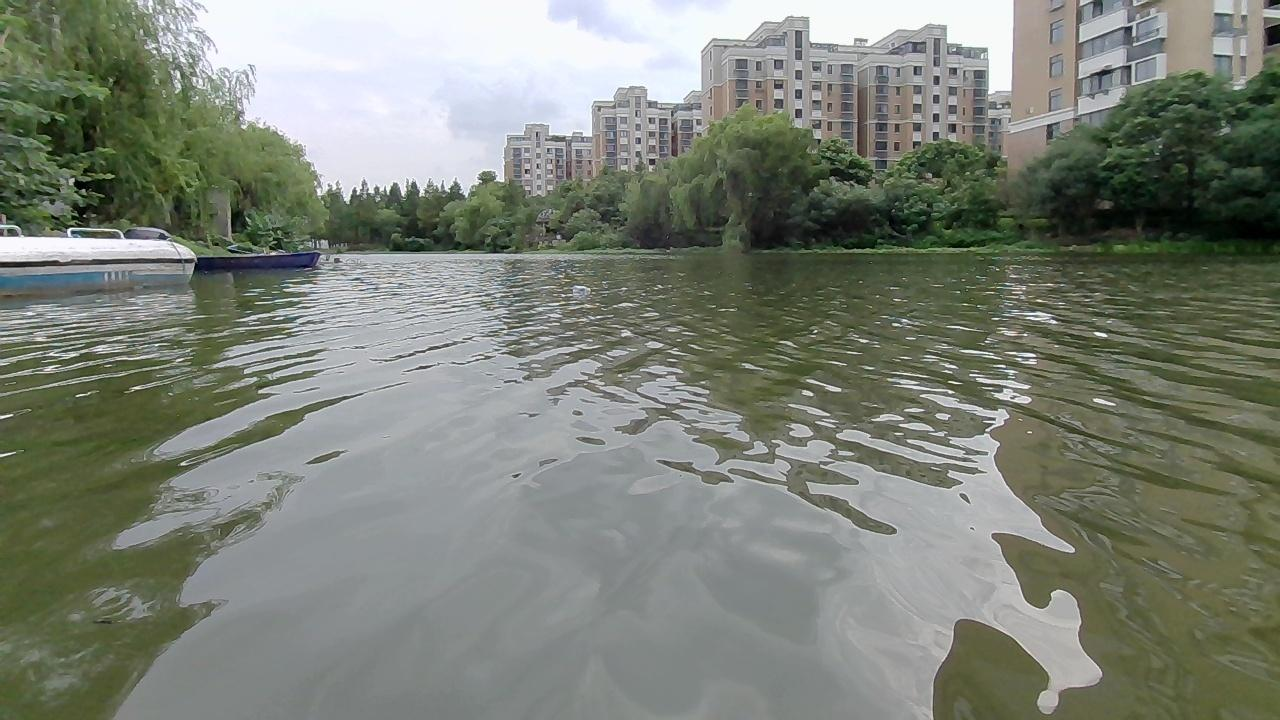bottle: (568, 284, 592, 297)
